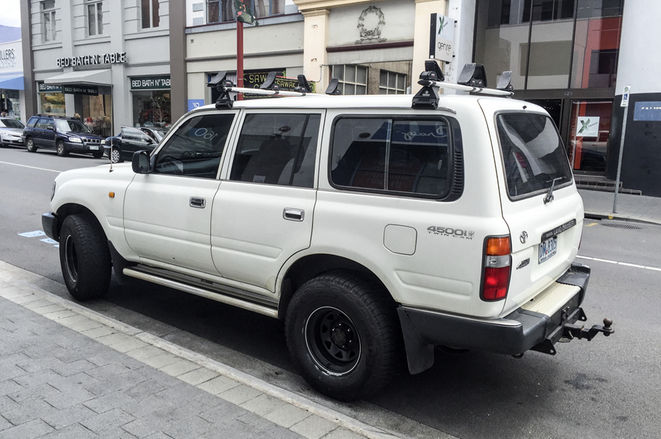car: (41, 71, 594, 400)
